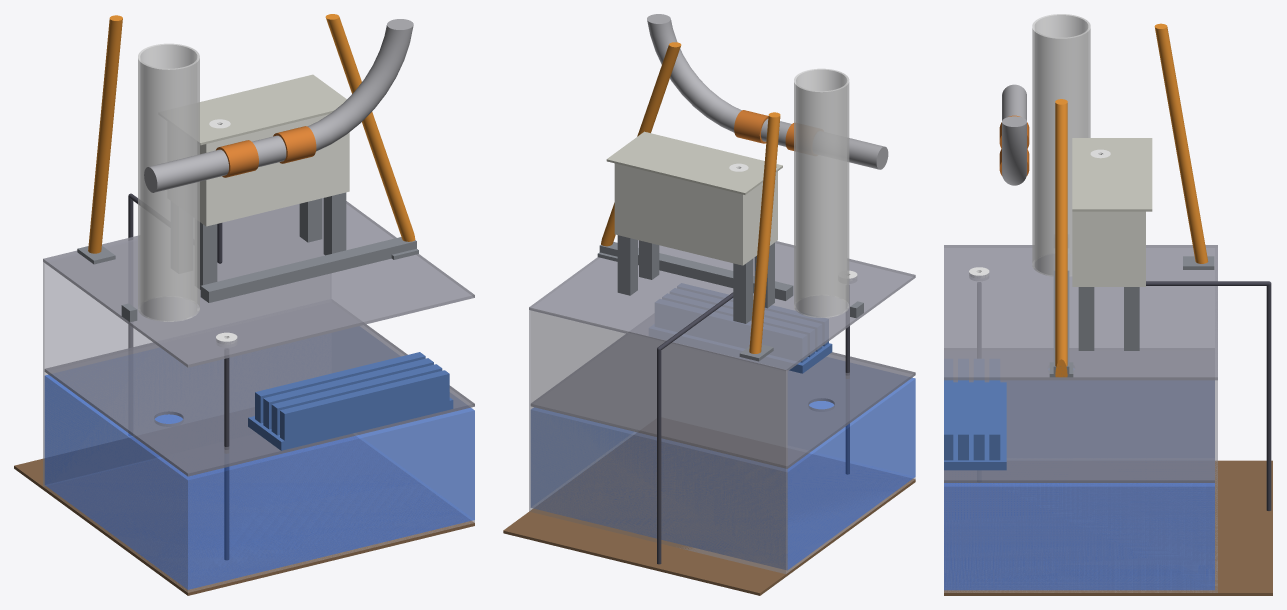
File: water-station.glb
The picture shows the model from 3 angles, left to right: view 1: azimuth 30°, elevation 25°; view 2: azimuth 150°, elevation 25°; view 3: azimuth 270°, elevation 25°; orthographic projection. The views are drawn at different scales.
Visible parts, largest first — view 1: water_volume, tank, ground, lid, shelf, growing_pipe, seedling_storage, track_loop, ws_door, lower_aframe_and_back_strut_16mm, ws_roof, base_bar_and_lid_plates (+6 smaller); view 2: tank, water_volume, shelf, lid, ground, growing_pipe, ws_shell, seedling_storage, ws_roof, lower_aframe_and_back_strut_16mm, track_loop, ws_legs (+4 smaller); view 3: ground, tank, water_volume, lid, shelf, growing_pipe, lower_aframe_and_back_strut_16mm, seedling_storage, ws_roof, ws_shell, track_loop, ws_legs (+2 smaller).
Boxes of the visible parts, x1,y1,x2,y2 form: water_volume: (44,374,474,589); tank: (43,262,474,592); ground: (14,436,474,595); lid: (43,198,474,367); shelf: (44,324,474,476); growing_pipe: (138,43,199,321); seedling_storage: (248,352,453,450); track_loop: (144,19,413,192); ws_door: (208,115,347,223); lower_aframe_and_back_strut_16mm: (88,14,415,253); ws_roof: (197,74,346,145); base_bar_and_lid_plates: (77,237,418,322); tank: (529,310,915,573); water_volume: (531,377,915,570); shelf: (531,334,915,468); lid: (529,240,915,372); ground: (503,434,915,595); growing_pipe: (794,68,849,317); ws_shell: (614,163,777,265); seedling_storage: (649,283,832,373); ws_roof: (606,131,782,194); lower_aframe_and_back_strut_16mm: (601,42,780,353); track_loop: (647,14,888,169); ws_legs: (617,235,774,323); ground: (944,460,1272,595); tank: (944,248,1217,592); water_volume: (944,483,1214,590); lid: (944,245,1217,380); shelf: (944,380,1214,482); growing_pipe: (1032,14,1090,276); lower_aframe_and_back_strut_16mm: (1055,23,1208,377); seedling_storage: (944,359,1006,470); ws_roof: (1072,138,1152,211); ws_shell: (1072,211,1145,286); track_loop: (1002,84,1026,185); ws_legs: (1078,287,1139,350).
Size of the model in its own units: 400 by 644 by 420.
